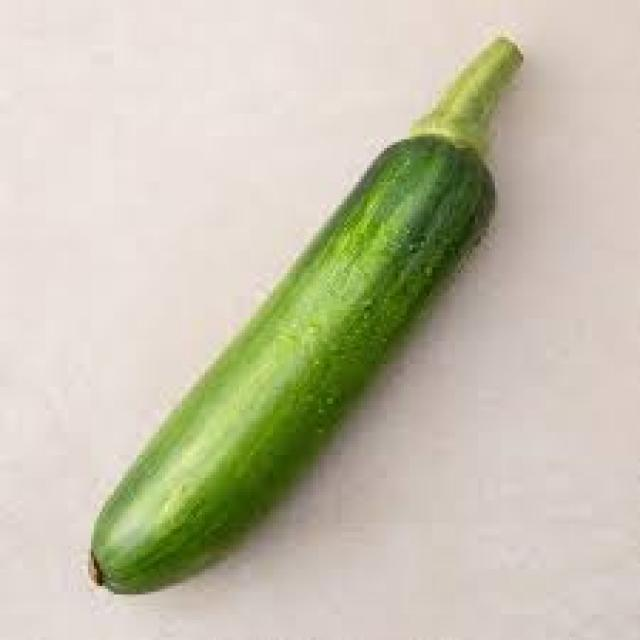Yogurt cup: (77, 0, 549, 600)
